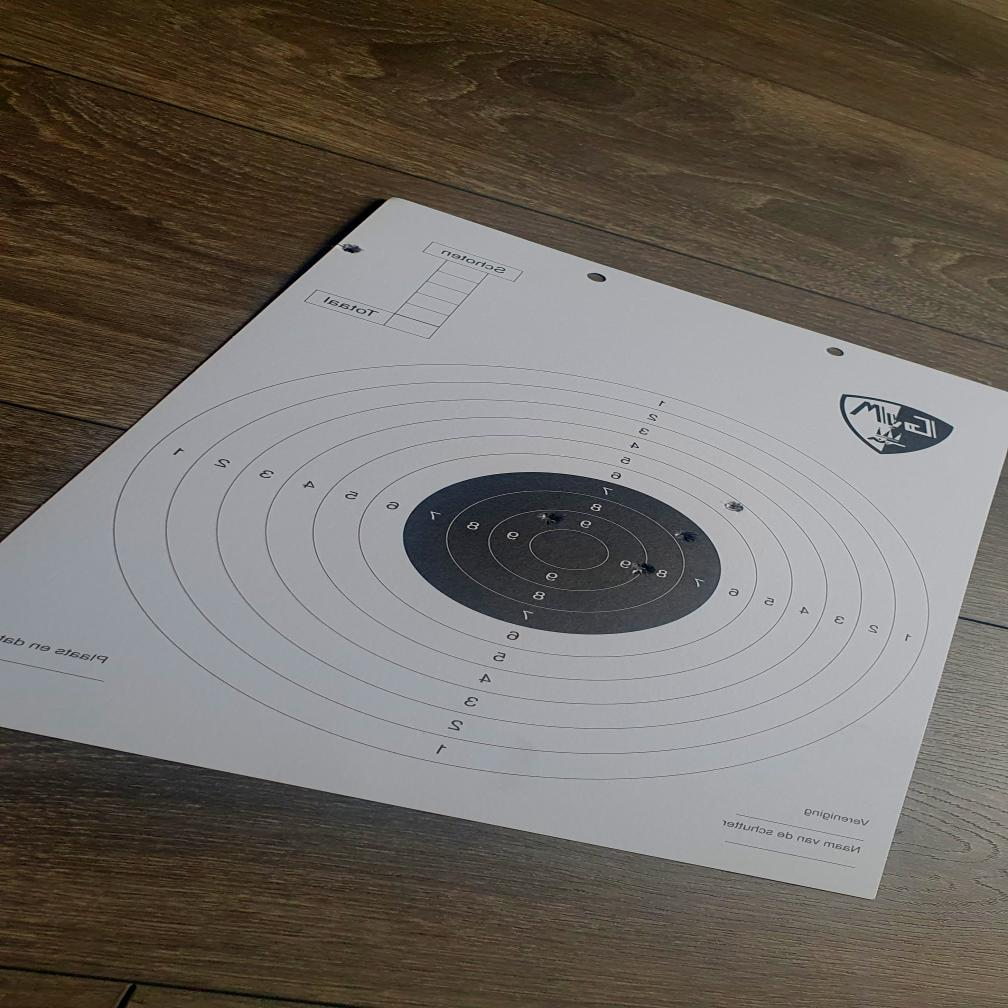0: (330, 241, 363, 255)
5: (721, 499, 747, 512)
7: (671, 530, 698, 542)
9: (531, 512, 568, 526), (628, 561, 658, 576)
Target: (110, 362, 934, 782)
black_contour: (402, 473, 719, 634)
